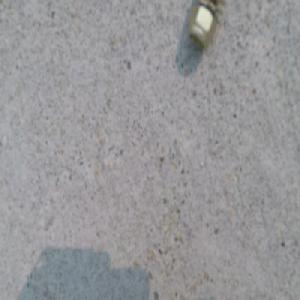BoltNutSet: (189, 0, 219, 50)
